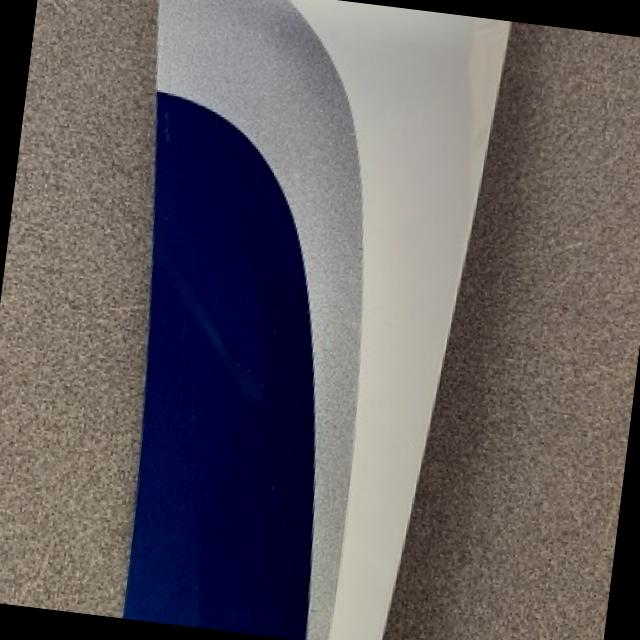healthy: (186, 276, 267, 434)
